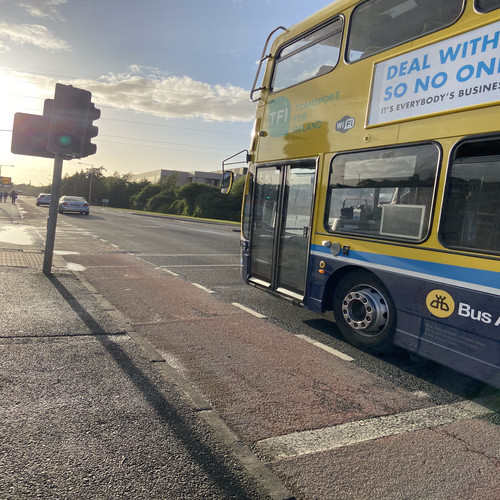Bus: (234, 5, 500, 391)
Traffic Light: (48, 81, 102, 169)
